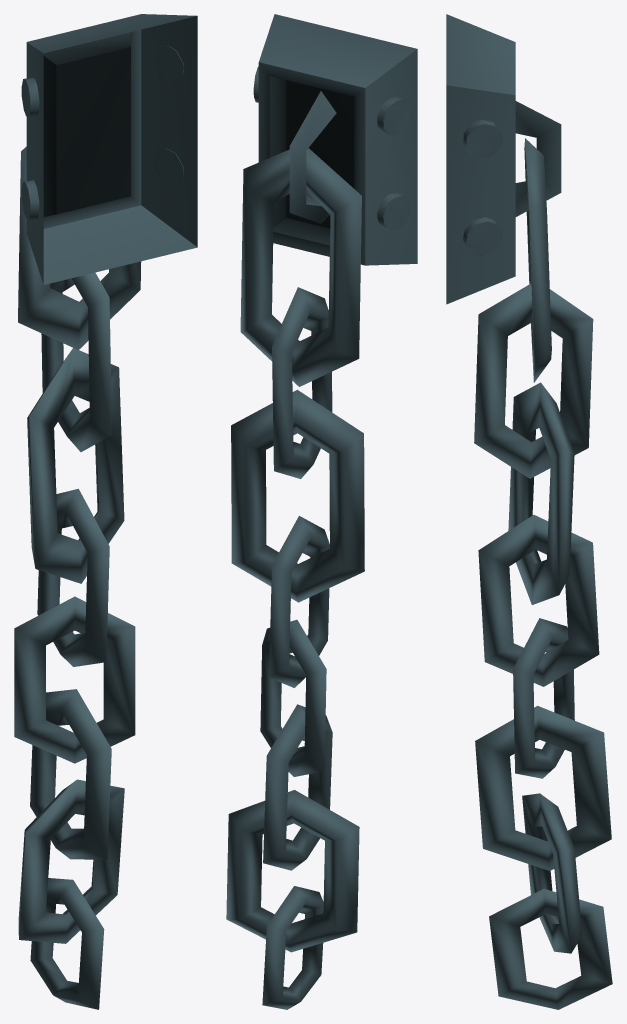
Rendered from obj_chain_hang_B_LOW.FBX.
3 renders of one model, left to right at view 1: azimuth 30°, elevation 25°; view 2: azimuth 150°, elevation 25°; view 3: azimuth 270°, elevation 25°, orthographic. The views are drawn at different scales.
Visible parts, largest first — view 1: obj_chain_hang_B_LOW; view 2: obj_chain_hang_B_LOW; view 3: obj_chain_hang_B_LOW.
Boxes of the visible parts, x1,y1,x2,y2 form: obj_chain_hang_B_LOW: [14, 14, 197, 1009]; obj_chain_hang_B_LOW: [226, 14, 417, 1009]; obj_chain_hang_B_LOW: [446, 14, 612, 1009].
Size of the model in its own units: 0.3218 by 1.95 by 0.3063.
